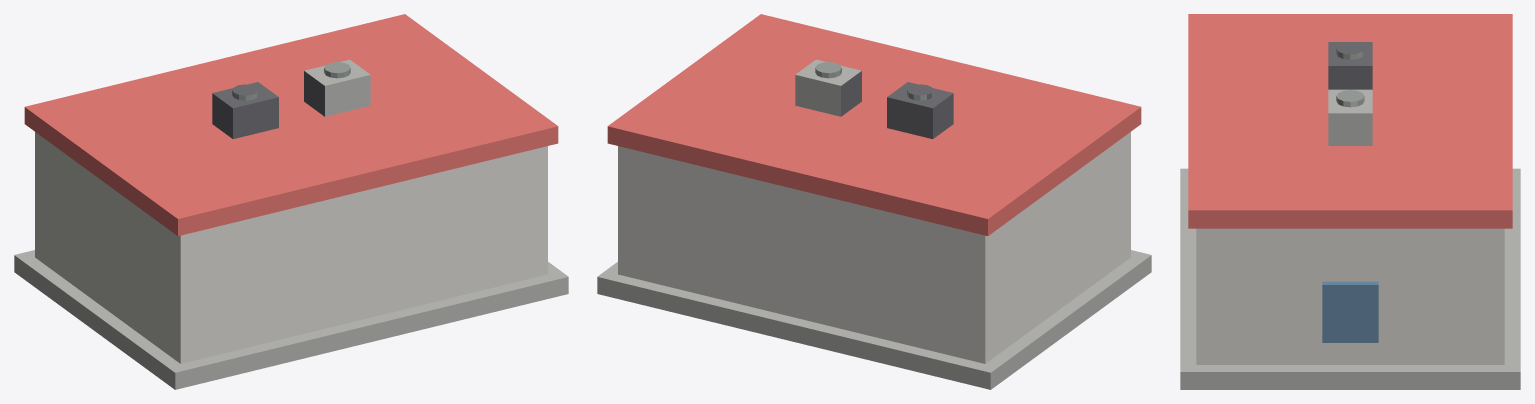
The model's file is fast_food_burger_drive_thru.glb.
3 renders of one model, left to right at view 1: azimuth 30°, elevation 25°; view 2: azimuth 150°, elevation 25°; view 3: azimuth 270°, elevation 25°, orthographic. The views are drawn at different scales.
Parts seen in each view (by area): view 1: fast_food_burger_drive_thru; view 2: fast_food_burger_drive_thru; view 3: fast_food_burger_drive_thru.
Boxes of the visible parts, <box> form: fast_food_burger_drive_thru: <box>14,14,568,389</box>; fast_food_burger_drive_thru: <box>597,14,1151,389</box>; fast_food_burger_drive_thru: <box>1180,14,1520,389</box>.
Size of the model in its own units: 12 by 5.95 by 8.5.
